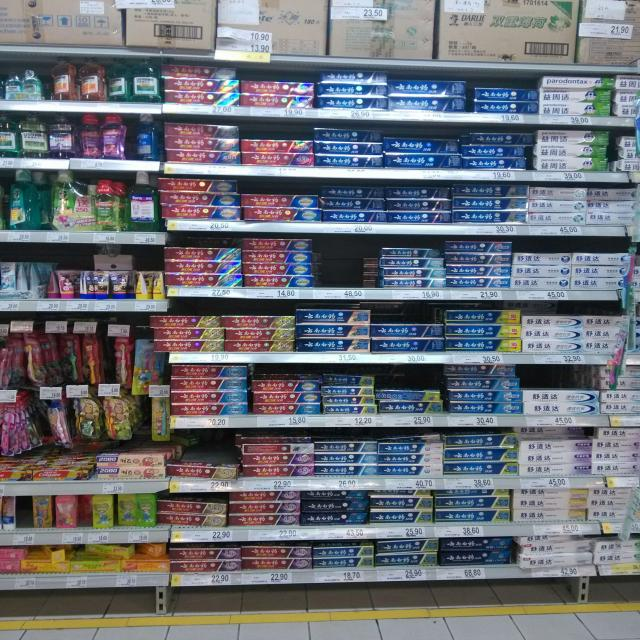void: (315, 236, 358, 287)
